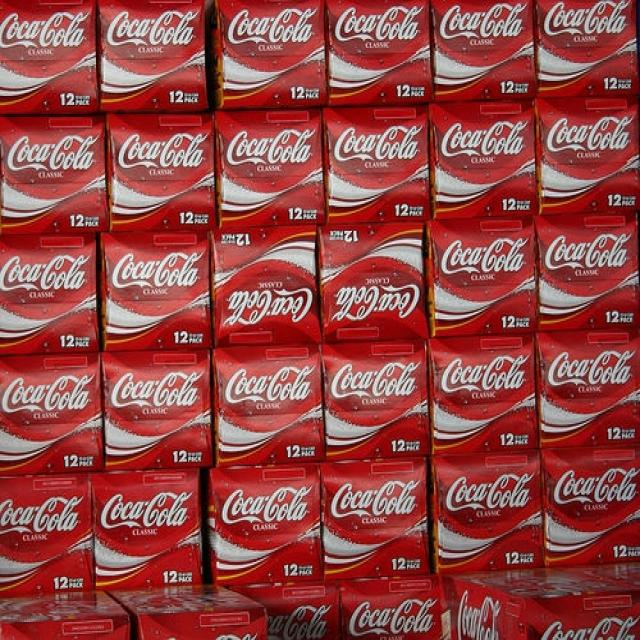cocacola: (105, 359, 210, 412), (443, 464, 541, 517), (100, 482, 198, 533), (328, 472, 429, 521), (110, 244, 210, 292), (331, 116, 426, 166), (220, 359, 321, 406), (222, 124, 325, 170), (7, 129, 105, 177), (3, 247, 99, 296), (439, 350, 537, 398), (224, 2, 324, 49), (347, 593, 447, 640), (548, 341, 640, 392), (439, 114, 535, 162), (331, 2, 429, 49), (2, 6, 97, 54), (545, 461, 640, 509), (220, 287, 317, 334), (541, 109, 640, 155), (218, 479, 319, 524), (542, 229, 640, 275), (439, 233, 533, 280), (2, 368, 100, 413), (115, 129, 212, 174), (329, 282, 426, 327), (3, 490, 90, 539), (102, 9, 203, 51), (330, 358, 426, 400), (437, 3, 535, 42), (534, 605, 640, 640), (544, 3, 640, 39), (264, 601, 337, 640), (458, 592, 501, 640)
